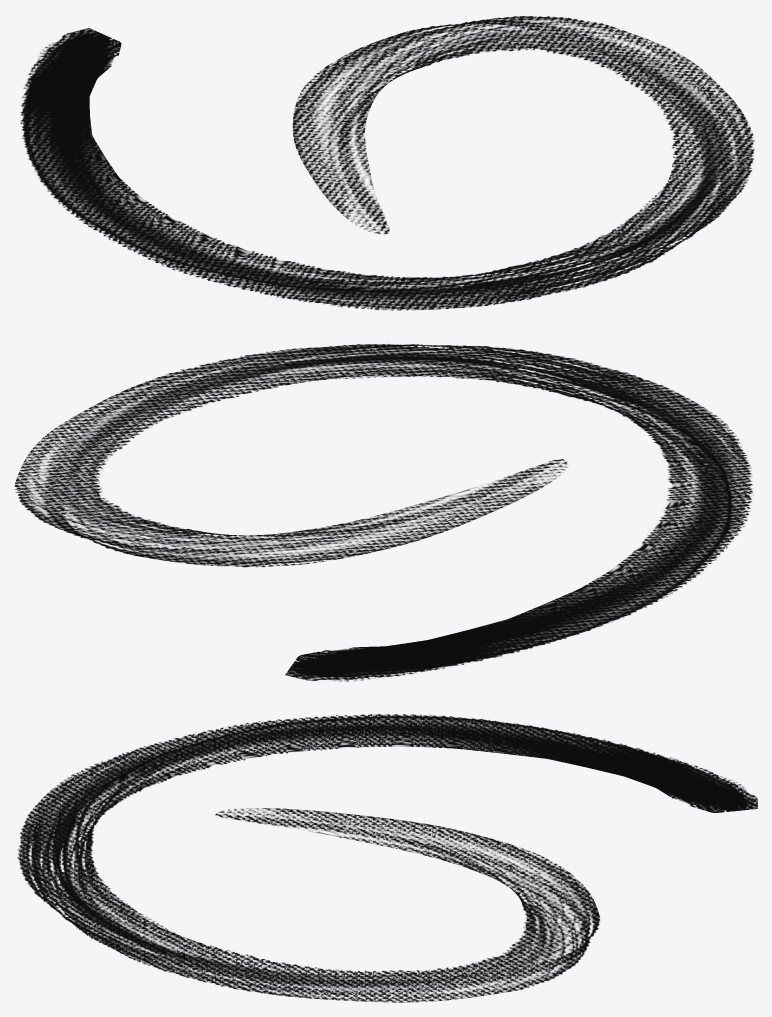
Rendered from cyrc1.glb.
The picture shows the model from 3 angles, top to bottom: view 1: azimuth 30°, elevation 25°; view 2: azimuth 150°, elevation 25°; view 3: azimuth 270°, elevation 25°; orthographic projection. The views are drawn at different scales.
Size of the model in its own units: 14.41 by 6.94e-08 by 15.62.
1 material, 1 textured.
